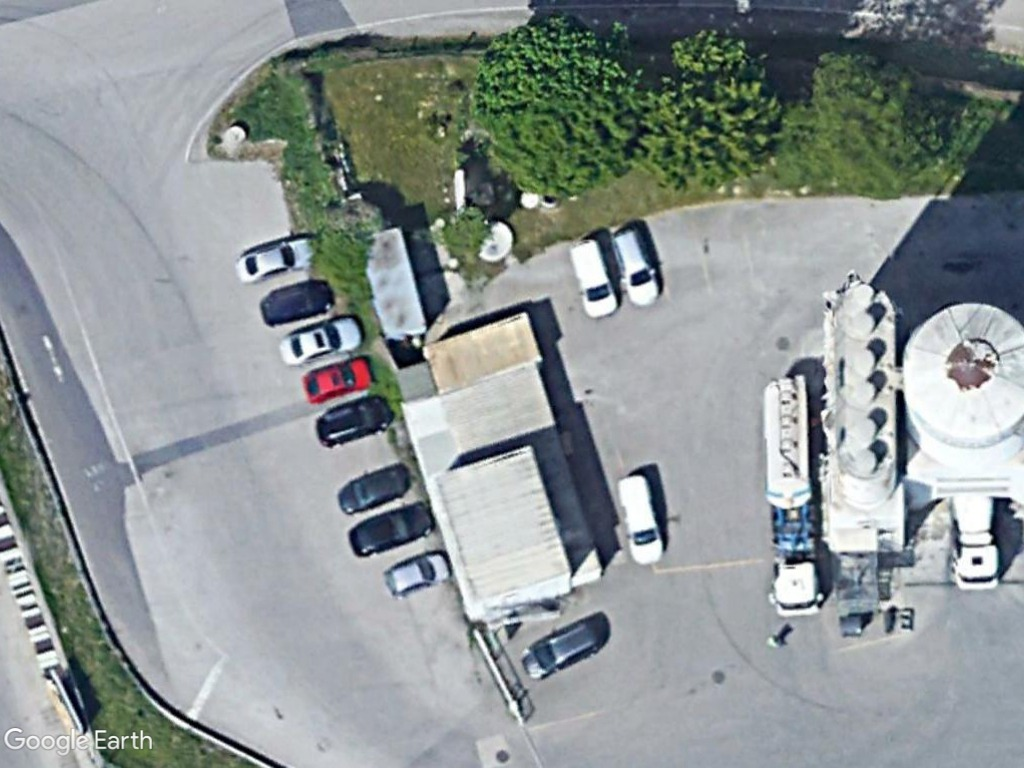car: (311, 391, 400, 451), (349, 500, 438, 559), (232, 229, 321, 286), (280, 314, 371, 368), (335, 461, 416, 516), (300, 352, 377, 406), (256, 279, 335, 331), (380, 552, 451, 600)
van: (515, 614, 600, 682), (617, 471, 669, 568), (605, 228, 664, 311), (565, 241, 620, 324)
